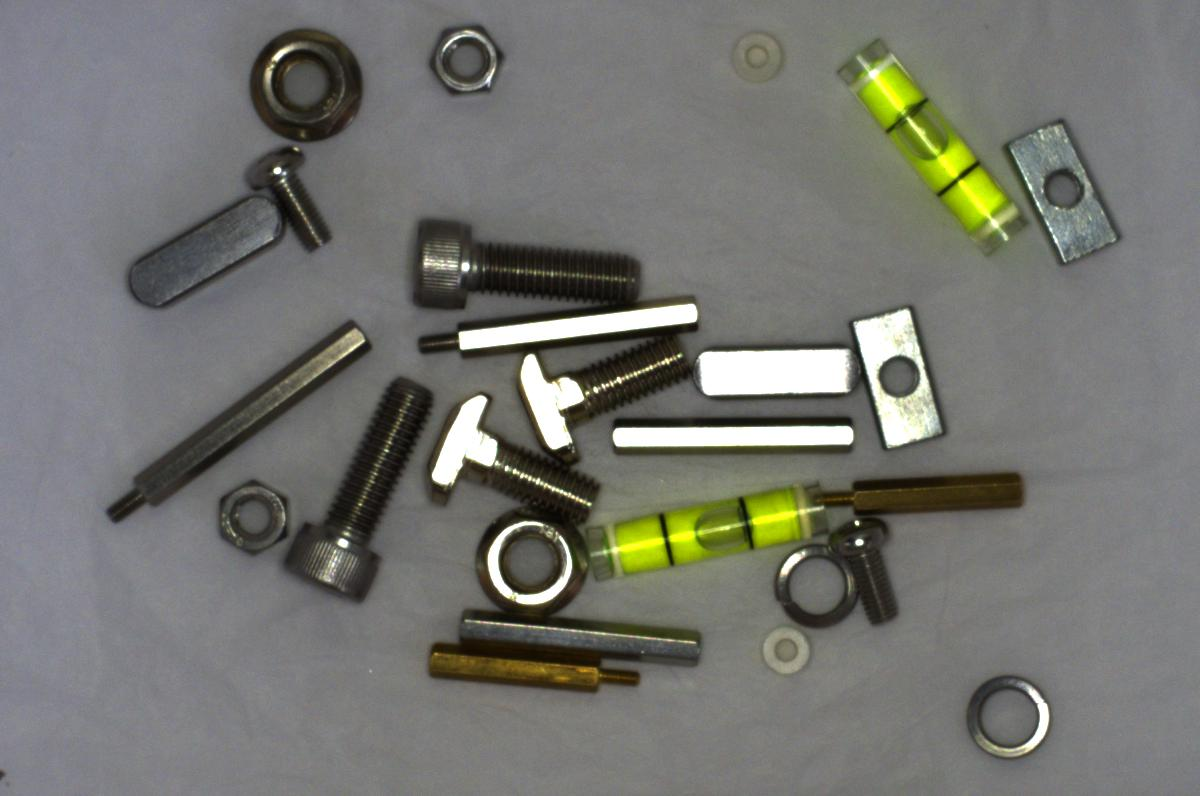Double hexagonal column: (453, 600, 708, 680), (602, 408, 857, 460)
Flange nut: (237, 17, 369, 146), (465, 498, 600, 623)
Hexagon nut: (206, 474, 289, 562), (425, 17, 510, 100)
Hexagon pillar: (421, 636, 648, 691), (819, 476, 1033, 523)
Hexagon screw: (279, 369, 434, 608), (403, 214, 648, 318)
Hexagonal steel column: (103, 314, 374, 519), (426, 295, 696, 354)
Horizontal bubble: (839, 40, 1033, 255), (580, 480, 823, 578)
Keybar: (112, 185, 283, 315), (693, 331, 861, 414)
Plastic cushion pillar: (720, 23, 787, 87), (757, 622, 816, 687)
Rectangular nut: (1011, 110, 1130, 273), (856, 298, 950, 450)
Round head screw: (241, 142, 335, 254), (838, 514, 906, 632)
Spring washer: (952, 664, 1052, 768), (776, 540, 864, 630)
T-shaped screw: (410, 391, 606, 532), (505, 339, 714, 456)
